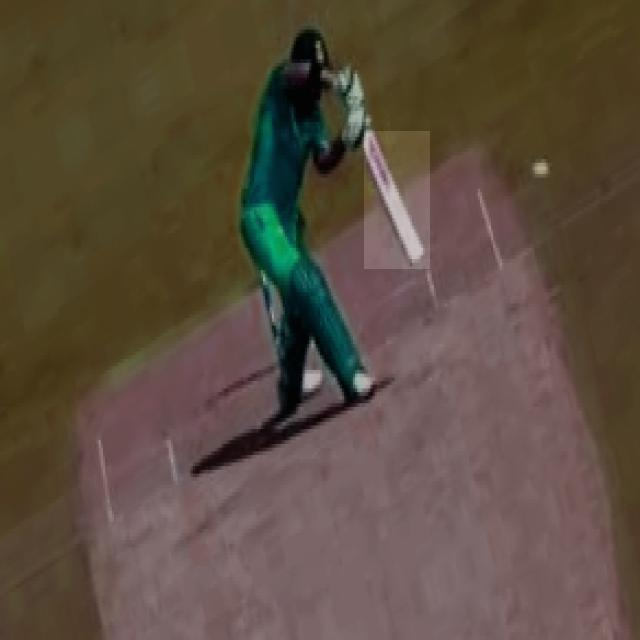bat: (365, 130, 431, 274)
toe: (409, 238, 434, 275)
